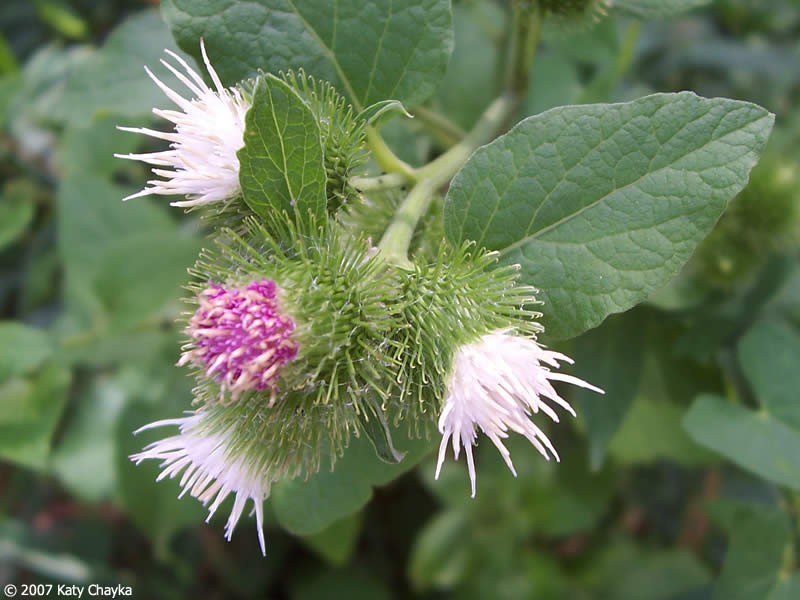thistle: (366, 224, 594, 474), (168, 222, 422, 407)
